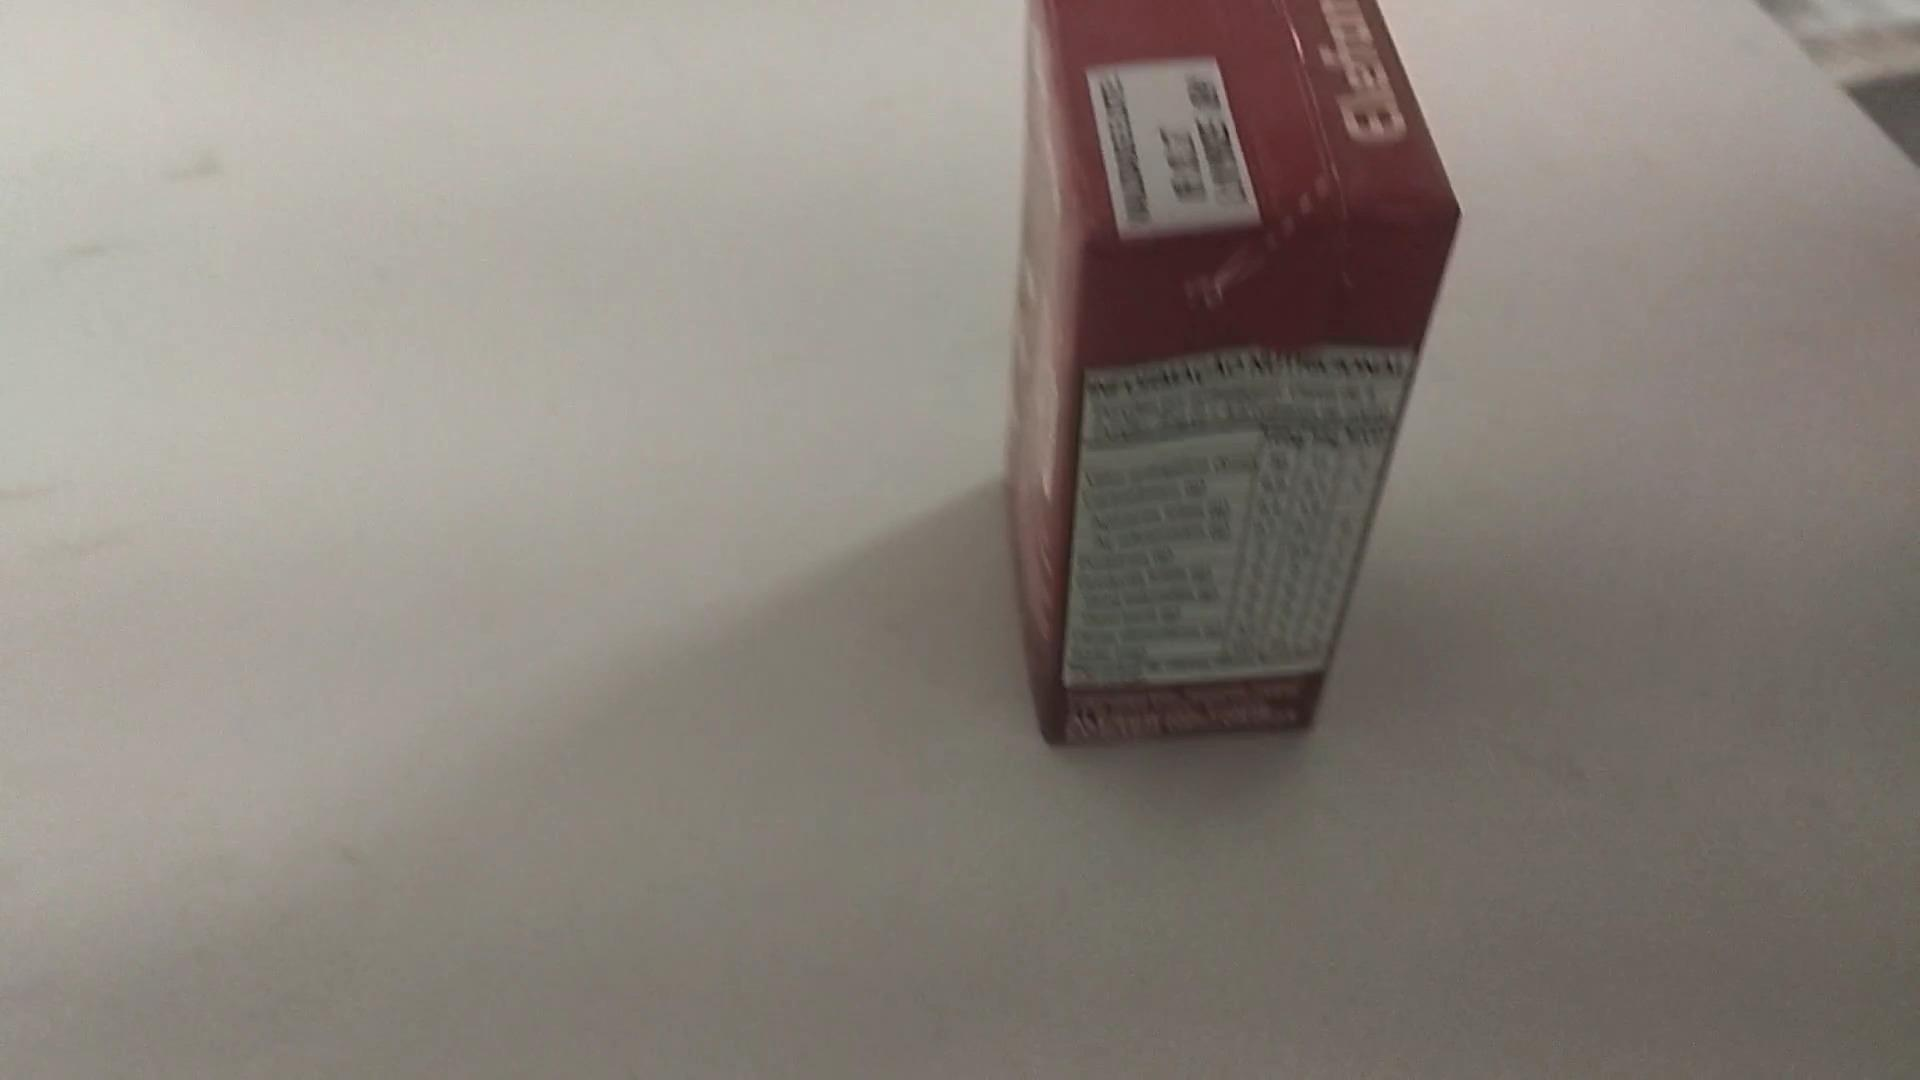tomate: (978, 0, 1491, 770)
